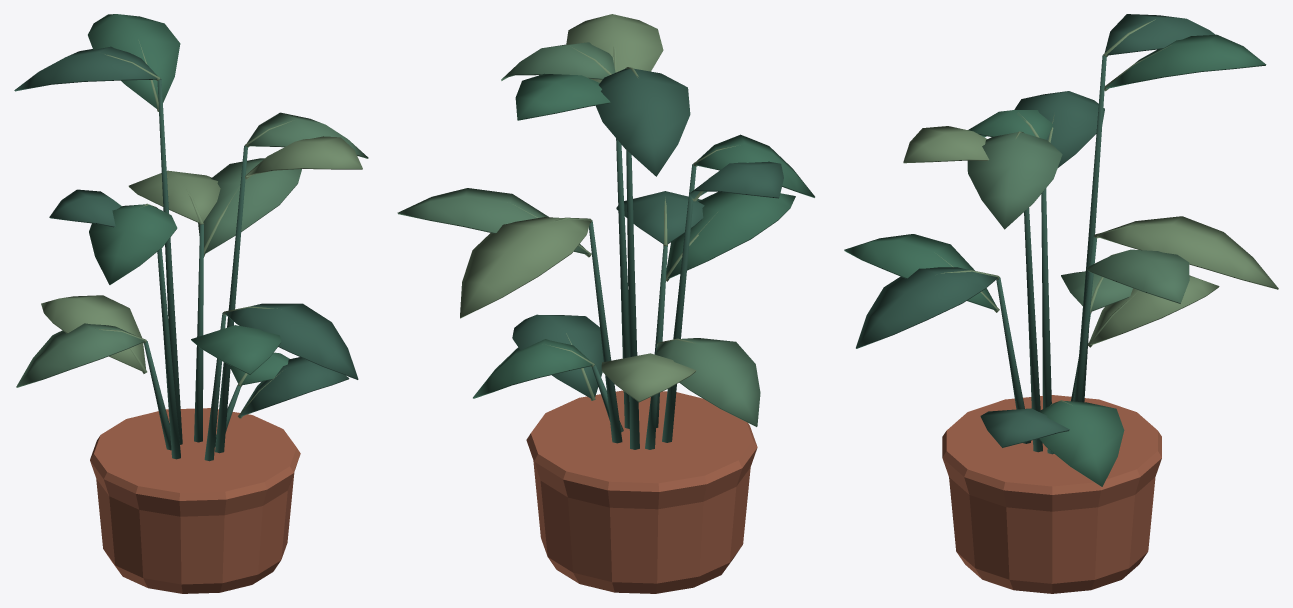
Rendered from rubber_plant.glb.
3 renders of one model, left to right at view 1: azimuth 30°, elevation 25°; view 2: azimuth 150°, elevation 25°; view 3: azimuth 270°, elevation 25°, orthographic. The views are drawn at different scales.
Visible parts, largest first — view 1: Rounded ceramic planter, Curved leaf.004, Curved leaf.007, Curved leaf.008, Curved leaf.013, Curved leaf.002, Curved leaf.012, Curved leaf.003, Curved leaf.006, Curved leaf.011, Curved leaf.001, Curved leaf.005 (+9 smaller); view 2: Rounded ceramic planter, Curved leaf.006, Curved leaf.012, Curved leaf.002, Curved leaf.005, Curved leaf.007, Curved leaf.001, Curved leaf.011, Curved leaf.013, Curved leaf, Curved leaf.003, Curved leaf.010 (+8 smaller); view 3: Rounded ceramic planter, Curved leaf.010, Curved leaf.004, Curved leaf.006, Curved leaf, Curved leaf.013, Curved leaf.005, Curved leaf.007, Curved leaf.009, Curved leaf.003, Curved leaf.012, Curved leaf.011 (+8 smaller).
Boxes of the visible parts, x1,y1,x2,y2 form: Rounded ceramic planter: [90, 408, 300, 593]; Curved leaf.004: [225, 303, 358, 379]; Curved leaf.007: [198, 158, 301, 253]; Curved leaf.008: [89, 204, 177, 284]; Curved leaf.013: [88, 14, 180, 108]; Curved leaf.002: [16, 323, 144, 387]; Curved leaf.012: [14, 46, 157, 91]; Curved leaf.003: [41, 295, 145, 371]; Curved leaf.006: [128, 170, 220, 223]; Curved leaf.011: [246, 136, 362, 177]; Curved leaf.001: [240, 357, 349, 416]; Curved leaf.005: [191, 325, 281, 374]; Rounded ceramic planter: [526, 390, 757, 593]; Curved leaf.006: [460, 217, 590, 318]; Curved leaf.012: [596, 68, 690, 176]; Curved leaf.002: [656, 338, 760, 426]; Curved leaf.005: [666, 191, 795, 278]; Curved leaf.007: [397, 188, 588, 254]; Curved leaf.001: [512, 314, 603, 398]; Curved leaf.011: [566, 14, 663, 82]; Curved leaf.013: [515, 73, 610, 120]; Curved leaf: [473, 339, 592, 398]; Curved leaf.003: [601, 353, 696, 402]; Curved leaf.010: [501, 42, 615, 80]; Rounded ceramic planter: [942, 395, 1161, 593]; Curved leaf.010: [967, 132, 1062, 229]; Curved leaf.004: [856, 267, 997, 348]; Curved leaf.006: [1096, 216, 1278, 289]; Curved leaf: [1038, 401, 1124, 486]; Curved leaf.013: [1105, 34, 1266, 88]; Curved leaf.005: [844, 234, 996, 310]; Curved leaf.007: [1086, 249, 1189, 303]; Curved leaf.009: [1014, 91, 1104, 167]; Curved leaf.003: [1089, 275, 1219, 344]; Curved leaf.012: [1104, 14, 1215, 55]; Curved leaf.011: [903, 126, 989, 163].
Bounding box in the file's own units: 0.6094 × 0.9253 × 0.7062.
